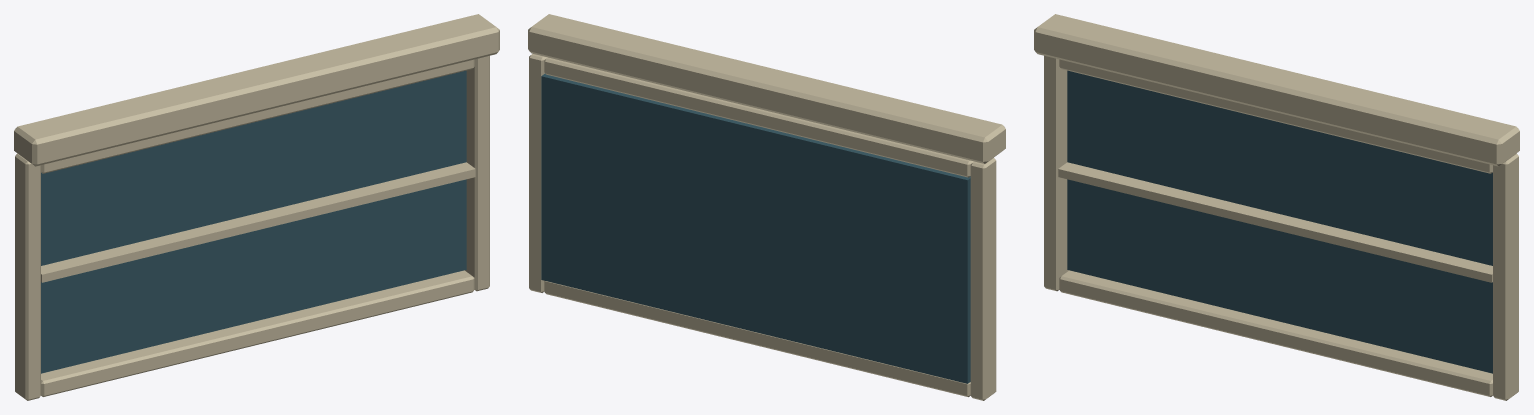
The model's file is window_33.glb.
3 renders of one model, left to right at view 1: azimuth 30°, elevation 25°; view 2: azimuth 150°, elevation 25°; view 3: azimuth 330°, elevation 25°, orthographic.
Parts seen in each view (by area): view 1: window_33; view 2: window_33; view 3: window_33.
Boxes of the visible parts, bbox=[...] form: window_33: bbox=[14, 14, 499, 400]; window_33: bbox=[528, 14, 1005, 400]; window_33: bbox=[1034, 14, 1519, 400].
Size of the model in its own units: 2.72 by 1.49 by 0.2375.
